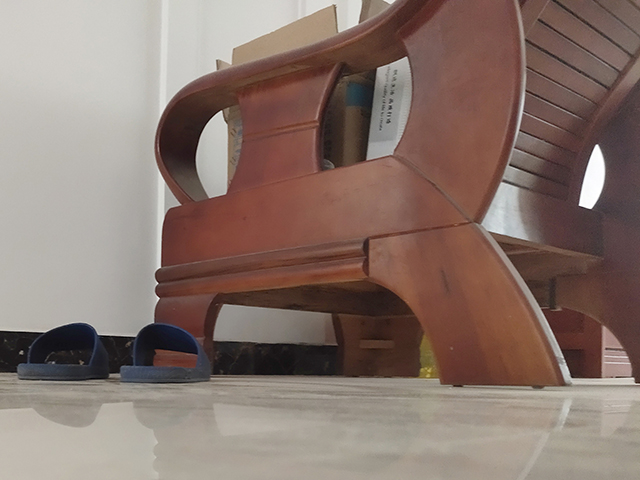slippers: (119, 320, 210, 383), (14, 322, 103, 382)
sofa: (152, 1, 640, 390)
